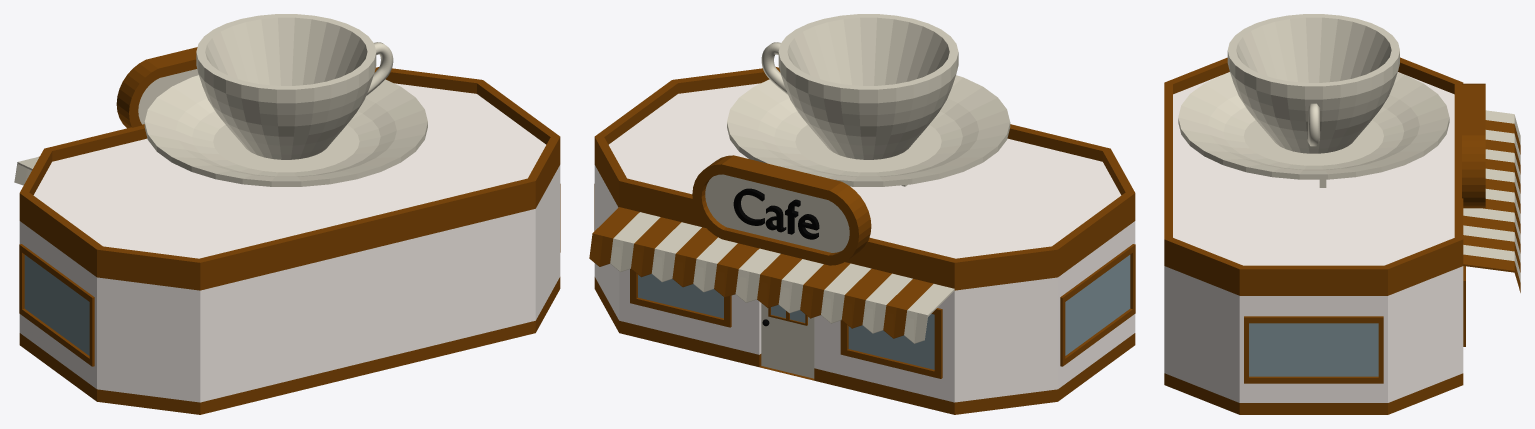
Rendered from Cafeteria.fbx.
The picture shows the model from 3 angles, left to right: view 1: azimuth 30°, elevation 25°; view 2: azimuth 150°, elevation 25°; view 3: azimuth 270°, elevation 25°; orthographic projection. The views are drawn at different scales.
Visible parts, largest first — view 1: Cafe; view 2: Cafe; view 3: Cafe.
Part boxes in pixels (x1=…): Cafe: x1=14, y1=14, x2=560, y2=414; Cafe: x1=589, y1=14, x2=1135, y2=414; Cafe: x1=1164, y1=14, x2=1520, y2=414.
Bounding box in the file's own units: 1213 × 658 × 834.
